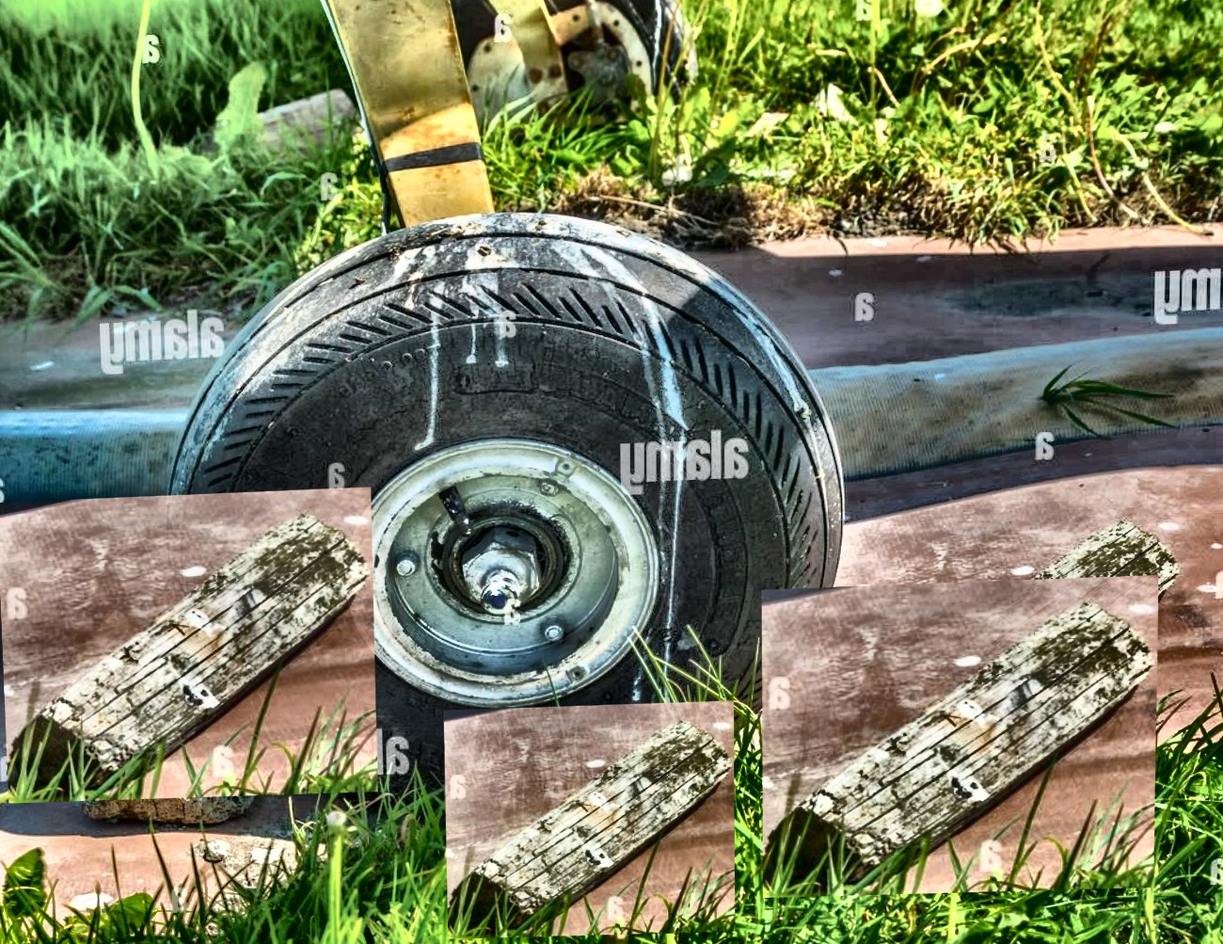chock: (762, 575, 1159, 898), (0, 487, 378, 803), (849, 498, 1183, 773), (444, 700, 735, 939), (74, 615, 276, 834)
wheel: (157, 195, 846, 798)
